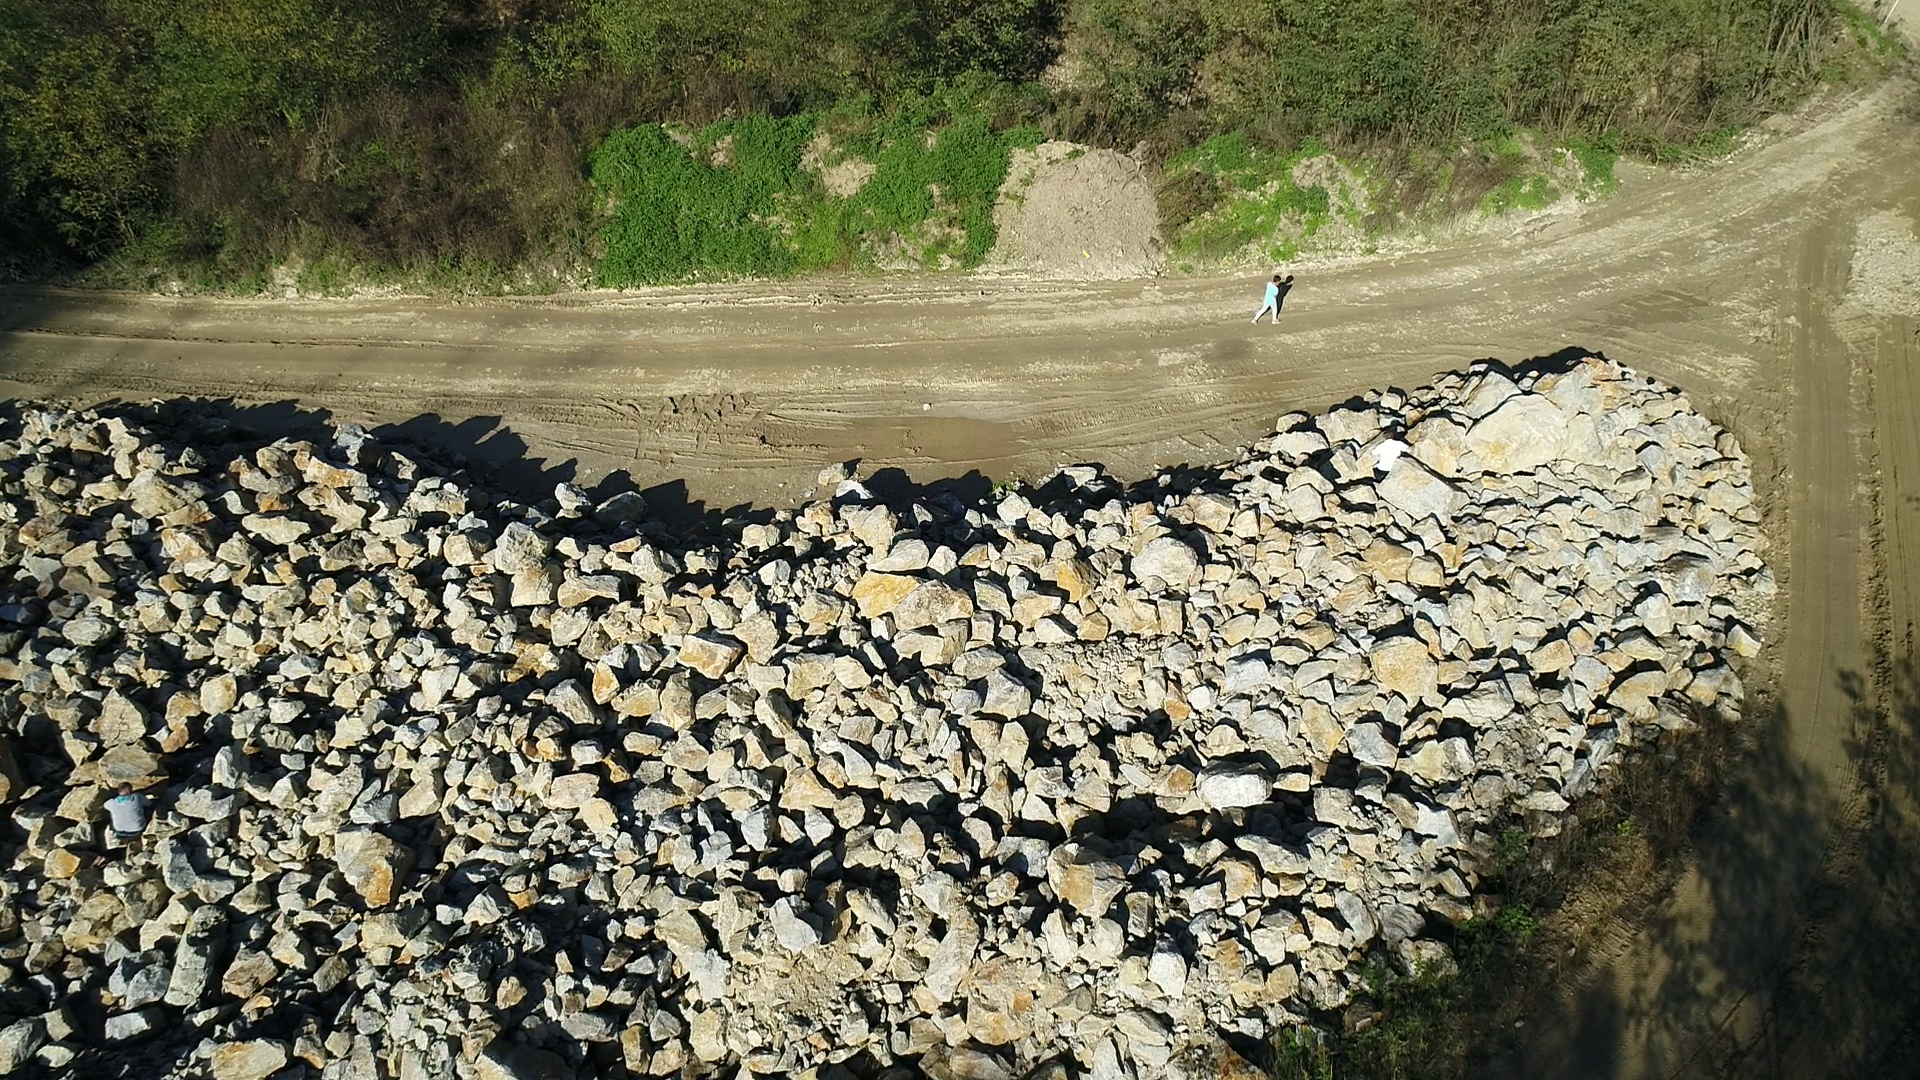not_defined: (1372, 429, 1416, 484)
person: (103, 781, 154, 839), (1249, 274, 1281, 325)
